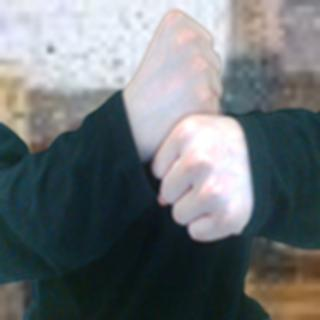CAREFUL: (120, 5, 254, 251)
